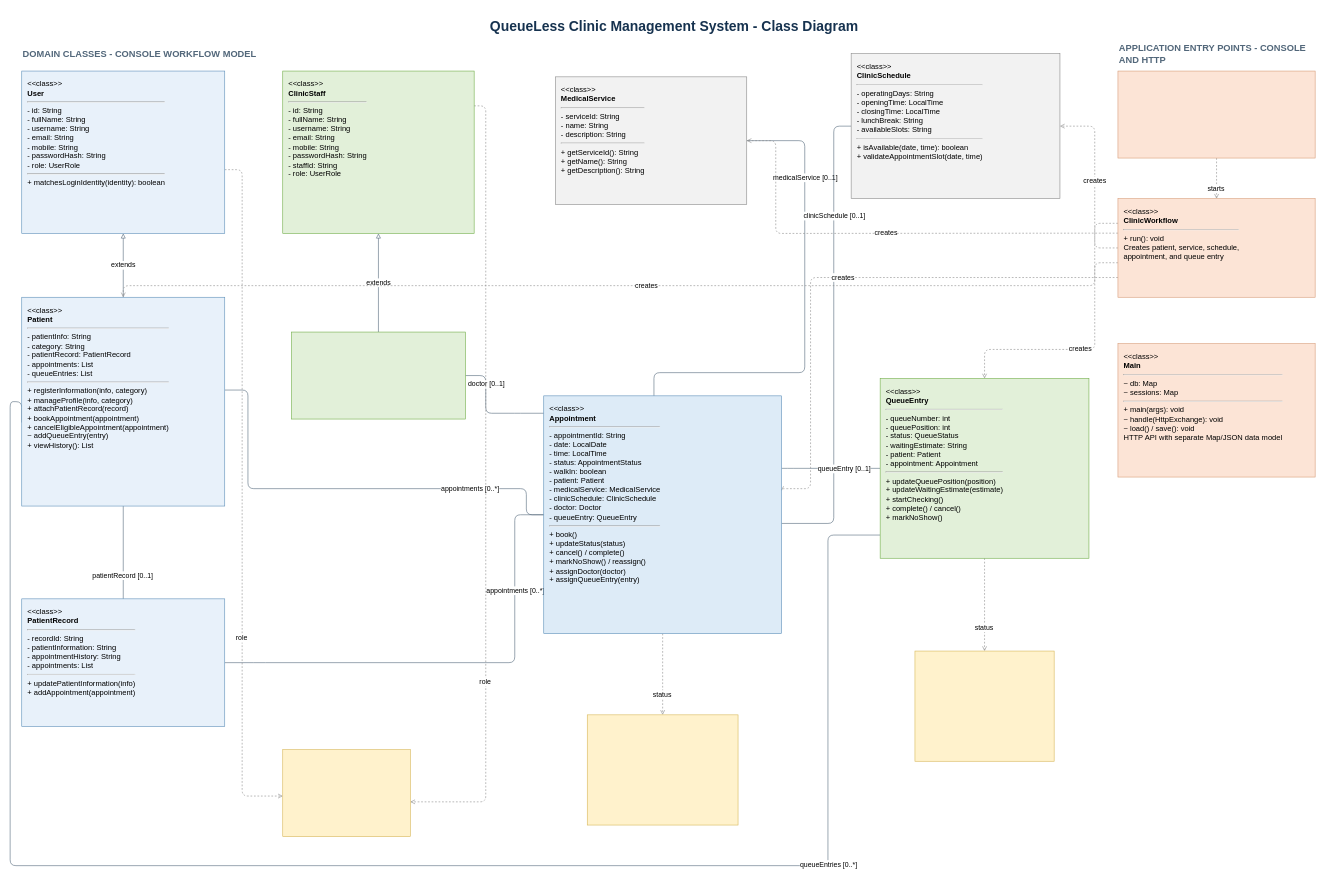
Image size: 1325x878. Some labels were removed from this diagram. Each missing label, with the centre of its shape:
<<class>> ClinicConsole + main(args): void Displays menu and starts workflow: the point at 1216,114
<<class>> Doctor - doctorId: String + getDoctorId(): String: the point at 378,375
<<enum>> AppointmentStatus UPCOMING COMPLETED CANCELLED RE_ASSIGNED NO_SHOW: the point at 662,769
<<enum>> QueueStatus WAITING CHECKING COMPLETED NO_SHOW CANCELLED: the point at 984,705
<<enum>> UserRole PATIENT CLINIC_STAFF DOCTOR: the point at 346,793
